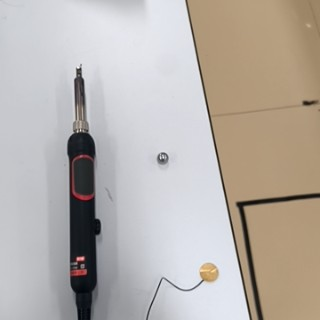ironball: (141, 141, 181, 177)
